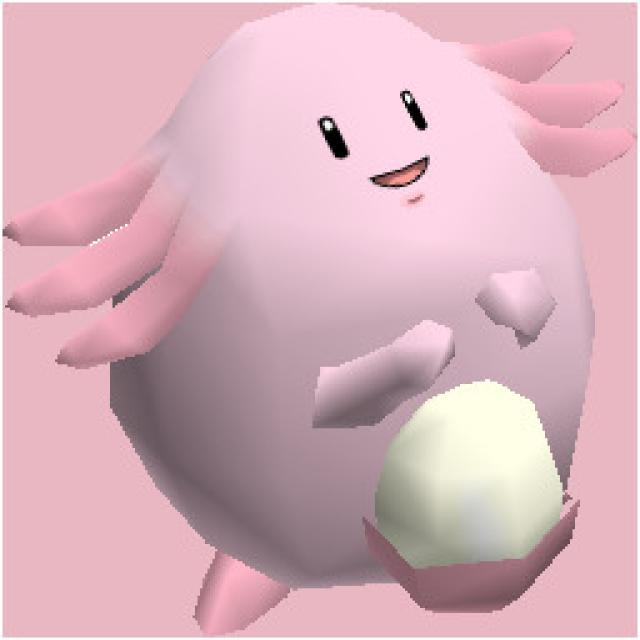Chansey: (14, 19, 626, 620)
